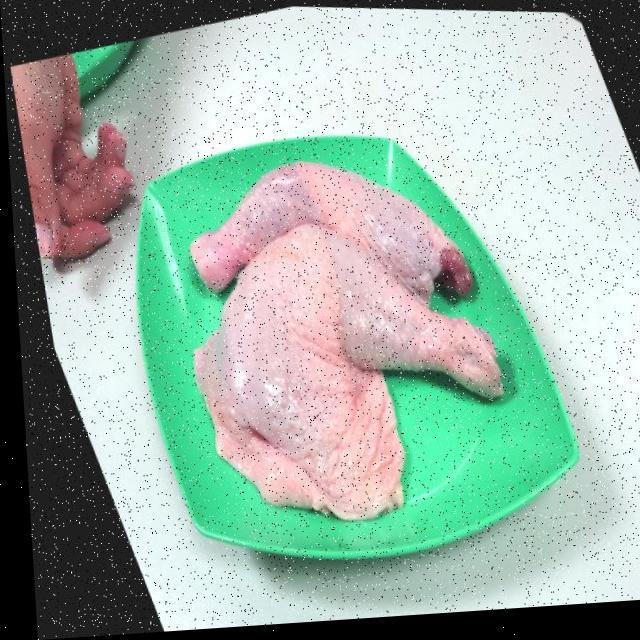quater: (203, 226, 510, 516), (189, 140, 472, 330)
